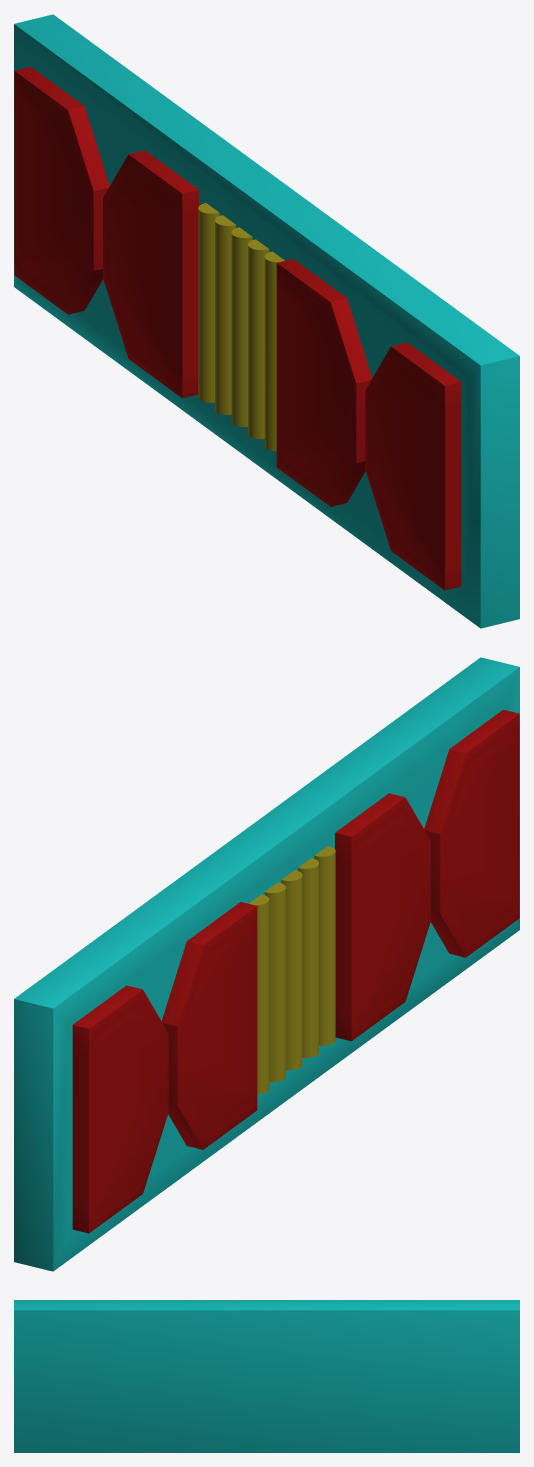
File: Wall2.fbx
The picture shows the model from 3 angles, top to bottom: view 1: azimuth 30°, elevation 25°; view 2: azimuth 150°, elevation 25°; view 3: azimuth 270°, elevation 25°; orthographic projection. The views are drawn at different scales.
Visible parts, largest first — view 1: Wall part 2; view 2: Wall part 2; view 3: Wall part 2.
Boxes of the visible parts, bbox=[...] form: Wall part 2: bbox=[14, 14, 519, 628]; Wall part 2: bbox=[14, 657, 519, 1271]; Wall part 2: bbox=[14, 1300, 519, 1452].
Size of the model in its own units: 450 by 1937 by 6229.
